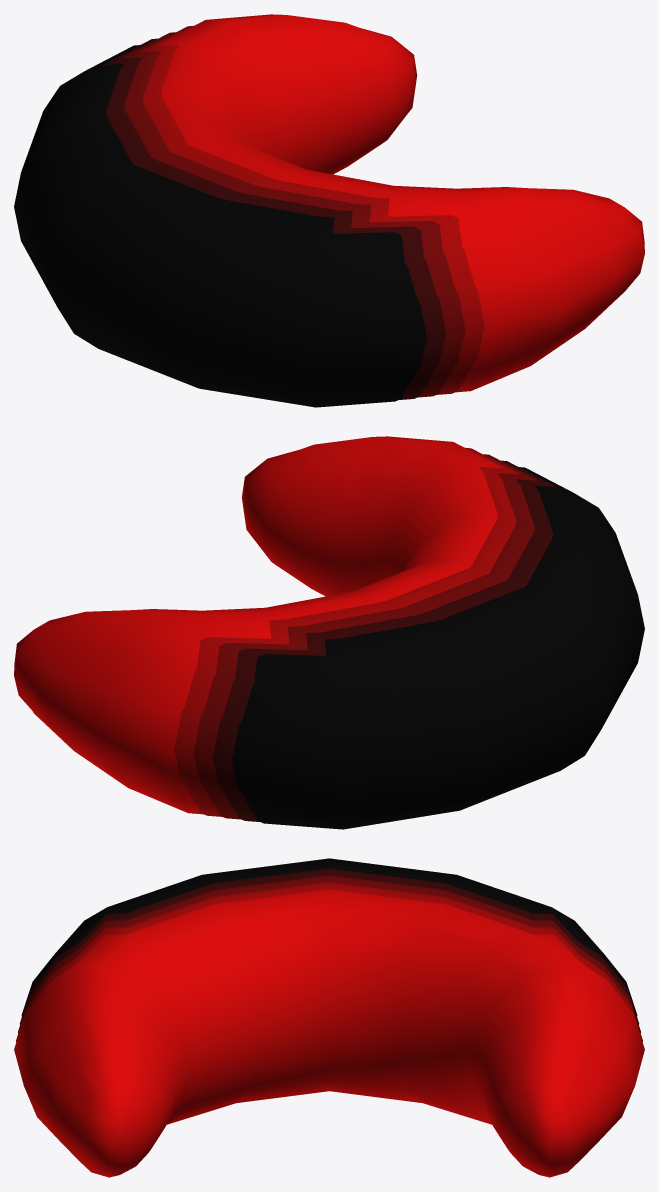
The model's file is Fur-13.fbx.
3 renders of one model, top to bottom at view 1: azimuth 30°, elevation 25°; view 2: azimuth 150°, elevation 25°; view 3: azimuth 270°, elevation 25°, orthographic. The views are drawn at different scales.
Visible parts, largest first — view 1: Mul_Mesh; view 2: Mul_Mesh; view 3: Mul_Mesh.
Part boxes in pixels (<box>): Mul_Mesh: <box>14,14,644,407</box>; Mul_Mesh: <box>14,436,644,829</box>; Mul_Mesh: <box>14,858,644,1177</box>.
Bounding box in the file's own units: 97.13 × 38.84 × 115.
